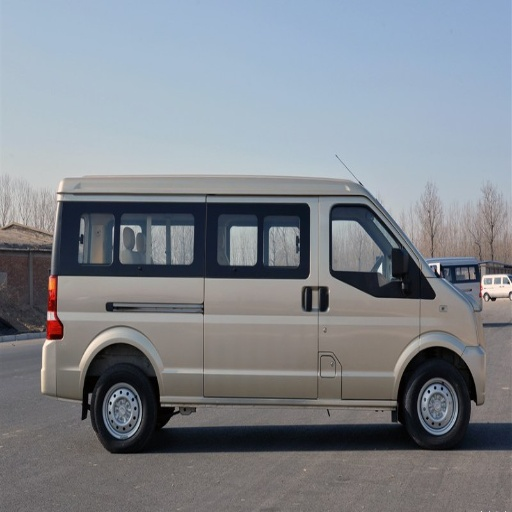trunk: (55, 279, 270, 400)
